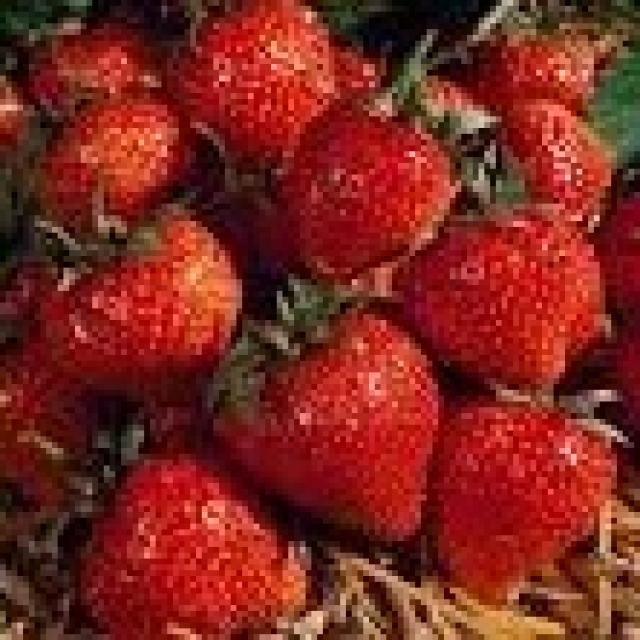strawberry: (218, 296, 446, 543), (52, 445, 322, 637), (35, 203, 249, 387), (398, 210, 602, 388), (453, 382, 614, 597), (167, 7, 325, 163), (296, 113, 442, 270)
